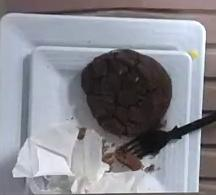dessert: (80, 49, 170, 135)
